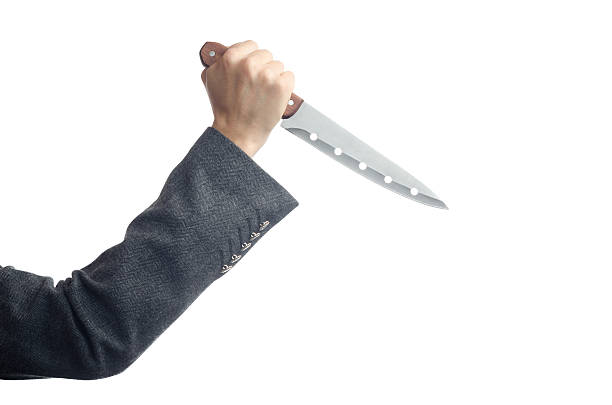knife: (197, 40, 453, 212)
